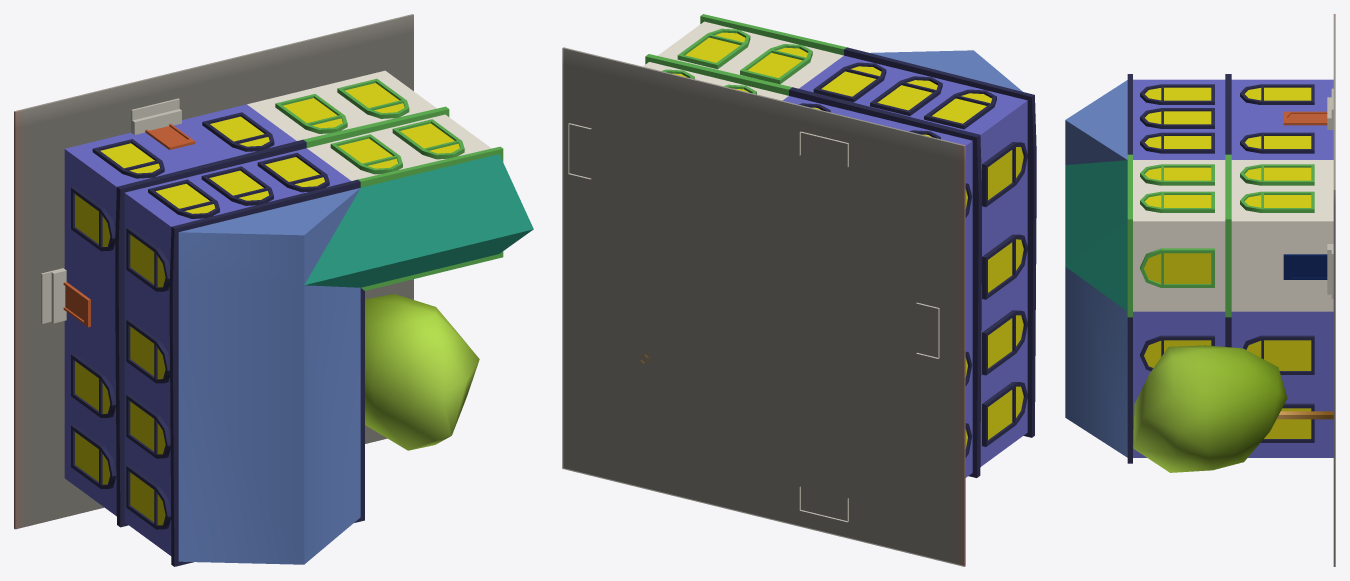
File: Low_Office_02.fbx
3 views of the same model, side by side, from view 1: azimuth 30°, elevation 25°; view 2: azimuth 150°, elevation 25°; view 3: azimuth 270°, elevation 25° (orthographic). The views are drawn at different scales.
Parts seen in each view (by area): view 1: Low_Office_02; view 2: Low_Office_02; view 3: Low_Office_02.
Boxes of the visible parts, <box> form: Low_Office_02: <box>14,14,533,566</box>; Low_Office_02: <box>562,14,1036,566</box>; Low_Office_02: <box>1065,14,1335,566</box>.
Bounding box in the file's own units: 200 × 200 × 130.
